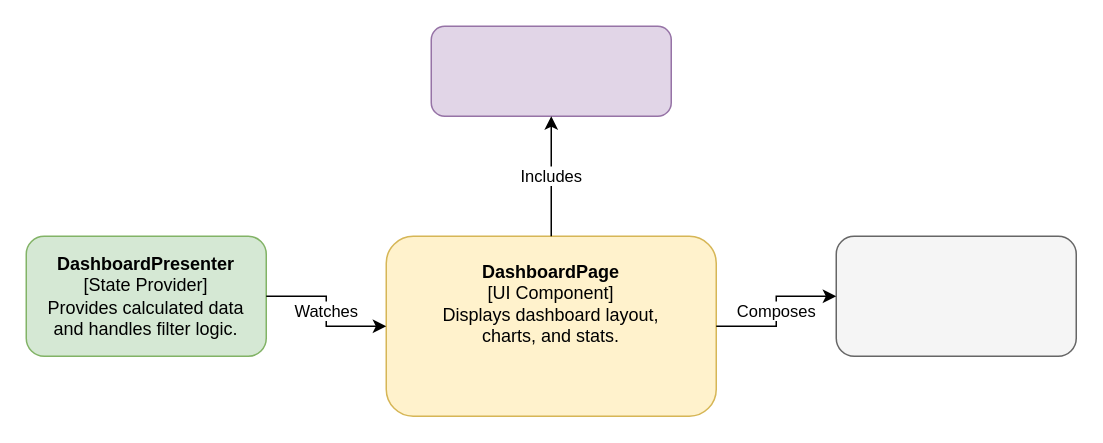
Image size: 1103x443. Some labels were removed from this diagram. The shapes that lost their labels are listed below. From the top down, each one's centre as x and y in pixels, then its label:
At pixel 550 70: "DashboardHeader [Sub-Component] Shows date/shift info.".
At pixel 955 295: "UI Widgets [Widgets] SummaryCard, TrendChart, ProgressCard".
